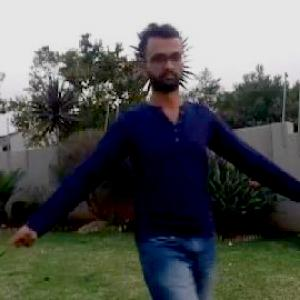land: (40, 49, 298, 299)
